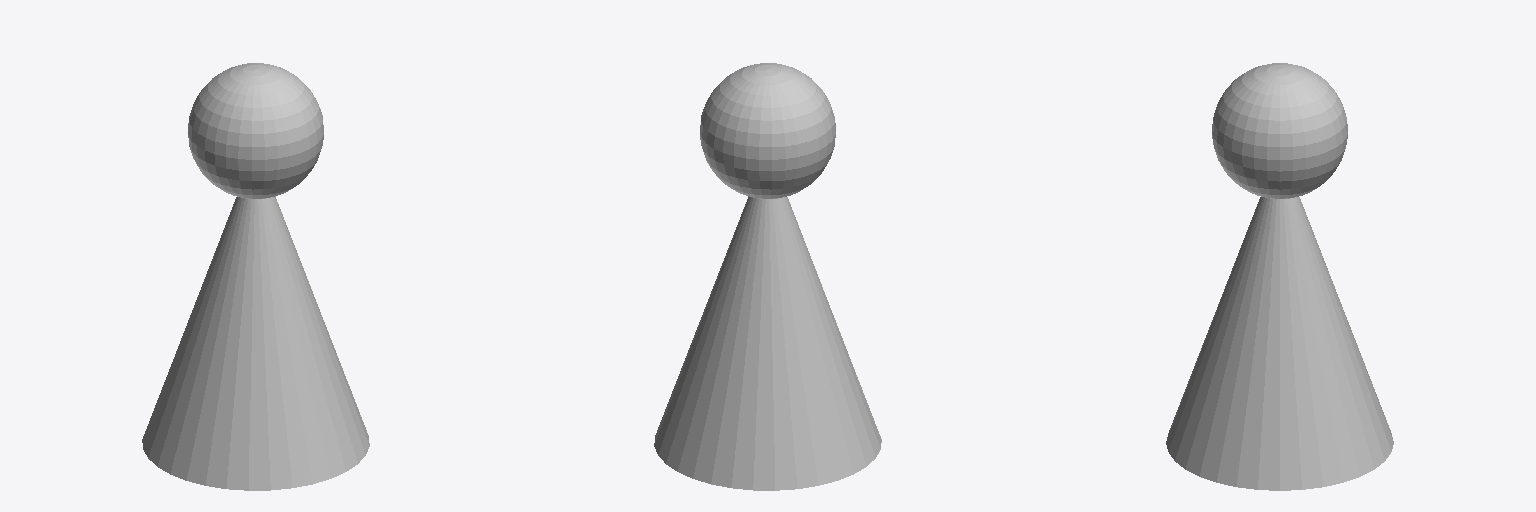
File: pelinappula.obj
3 views of the same model, side by side, from view 1: azimuth 30°, elevation 25°; view 2: azimuth 150°, elevation 25°; view 3: azimuth 270°, elevation 25° (orthographic).
Visible parts, largest first — view 1: pelinappula; view 2: pelinappula; view 3: pelinappula.
Part boxes in pixels (bbox=[...]): pelinappula: bbox=[142, 63, 369, 490]; pelinappula: bbox=[654, 63, 881, 490]; pelinappula: bbox=[1166, 63, 1393, 490].
Bounding box in the file's own units: 0.775 × 1.4 × 0.7743.